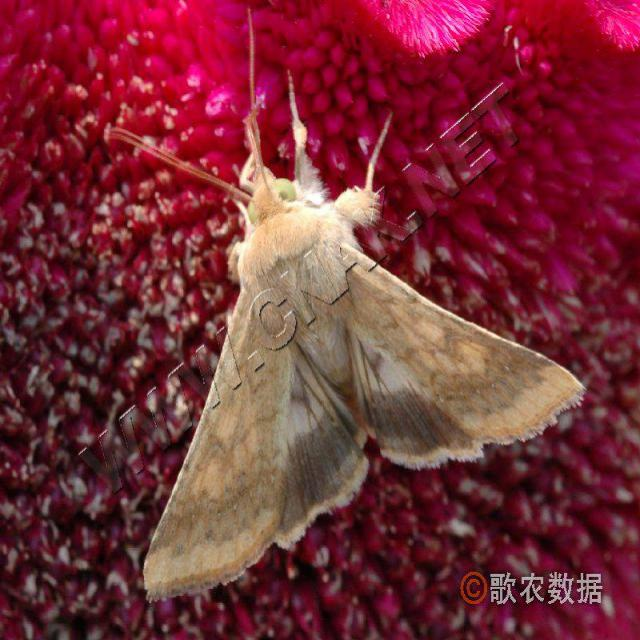BeetArmyWorm-Adult-: (80, 63, 628, 599)
